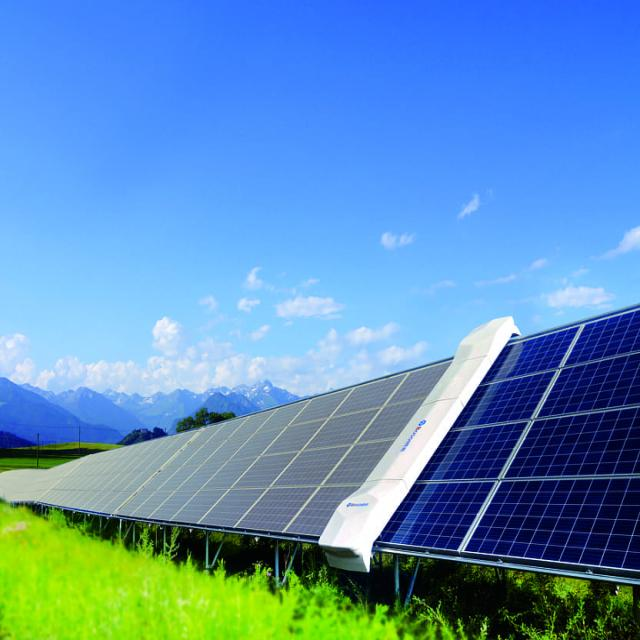clean-solar-panel: (380, 307, 640, 578)
dust-solar-panel: (0, 362, 457, 544)
